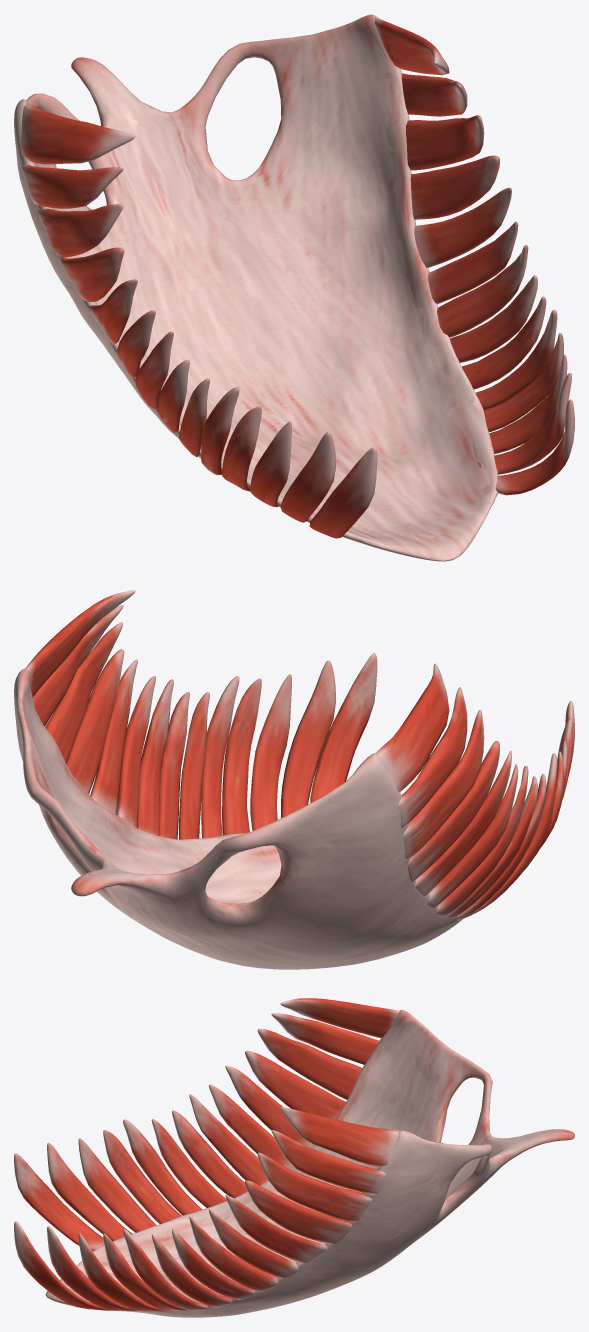
File: obliquus externus abdominis.fbx
3 renders of one model, top to bottom at view 1: azimuth 30°, elevation 25°; view 2: azimuth 150°, elevation 25°; view 3: azimuth 270°, elevation 25°, orthographic. The views are drawn at different scales.
Parts seen in each view (by area): view 1: obliquus externus abdominis, obliquus externus abdominis low; view 2: obliquus externus abdominis, obliquus externus abdominis low; view 3: obliquus externus abdominis, obliquus externus abdominis low.
Boxes of the visible parts, x1=… form: obliquus externus abdominis: x1=14, y1=14, x2=574, y2=561; obliquus externus abdominis low: x1=25, y1=20, x2=565, y2=554; obliquus externus abdominis: x1=14, y1=590, x2=574, y2=969; obliquus externus abdominis low: x1=19, y1=603, x2=568, y2=947; obliquus externus abdominis: x1=14, y1=998, x2=574, y2=1317; obliquus externus abdominis low: x1=20, y1=1002, x2=559, y2=1313.
Size of the model in its own units: 60.45 by 51.04 by 106.
1 material, 1 textured.
